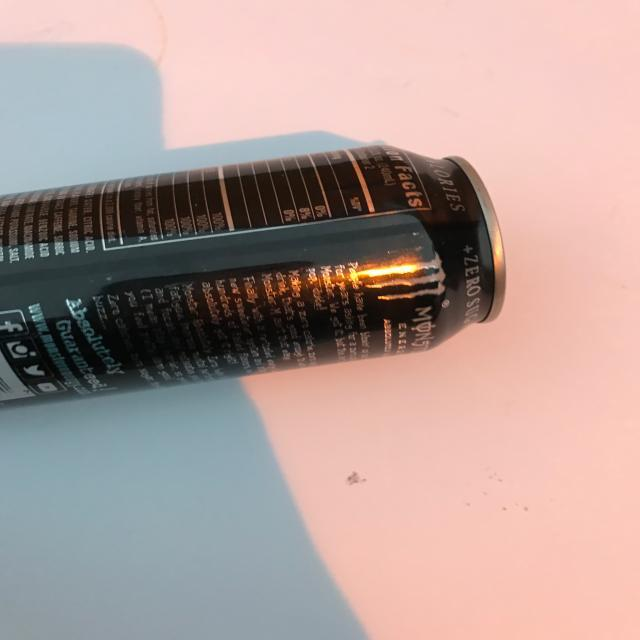metal: (1, 144, 506, 410)
